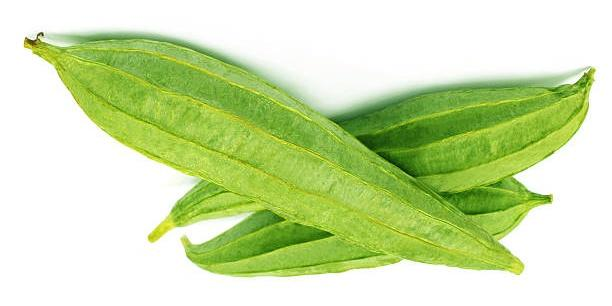pumpkin: (23, 30, 596, 277)
